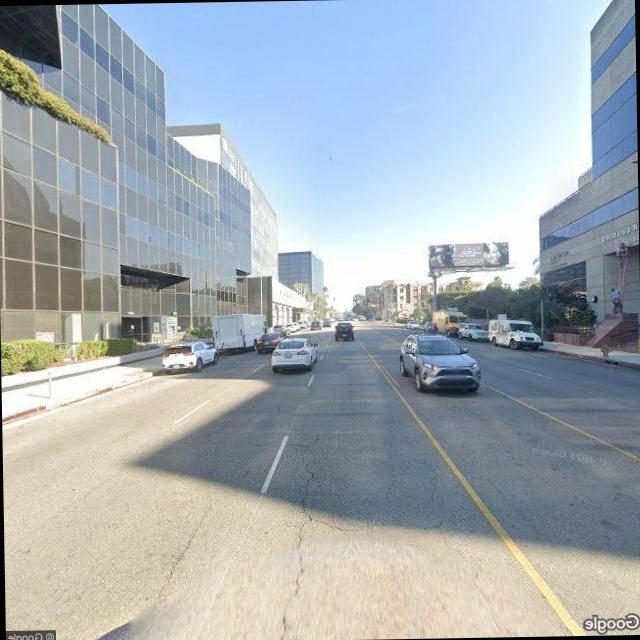pothole: (269, 437, 343, 640), (157, 503, 218, 592), (436, 517, 462, 557)
